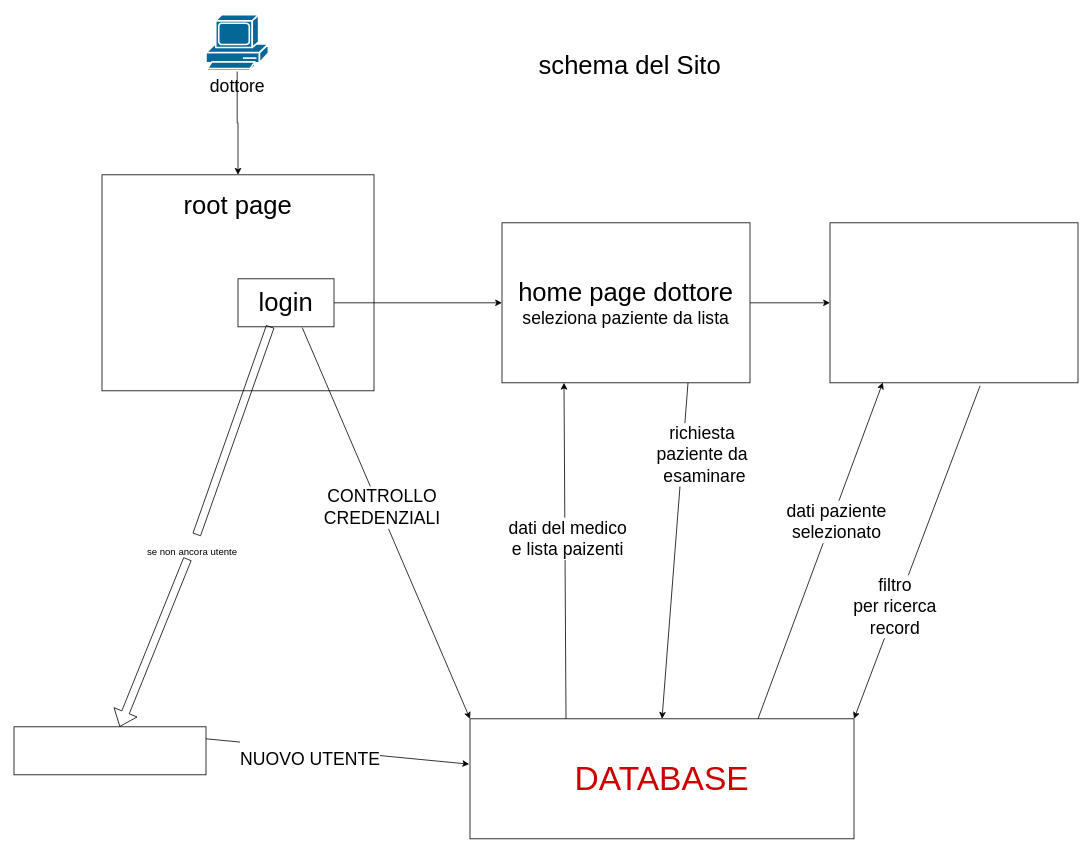
The diagram is 1092 pixels wide and 853 high, and some of its shapes have lost their labels. The shapes that lost their labels are listed below. From the top down, each one's centre as x and y in pixels, then its label:
pixel 953 302: home page paziente dashboard con risultati dei form
pixel 109 750: regitrazione
